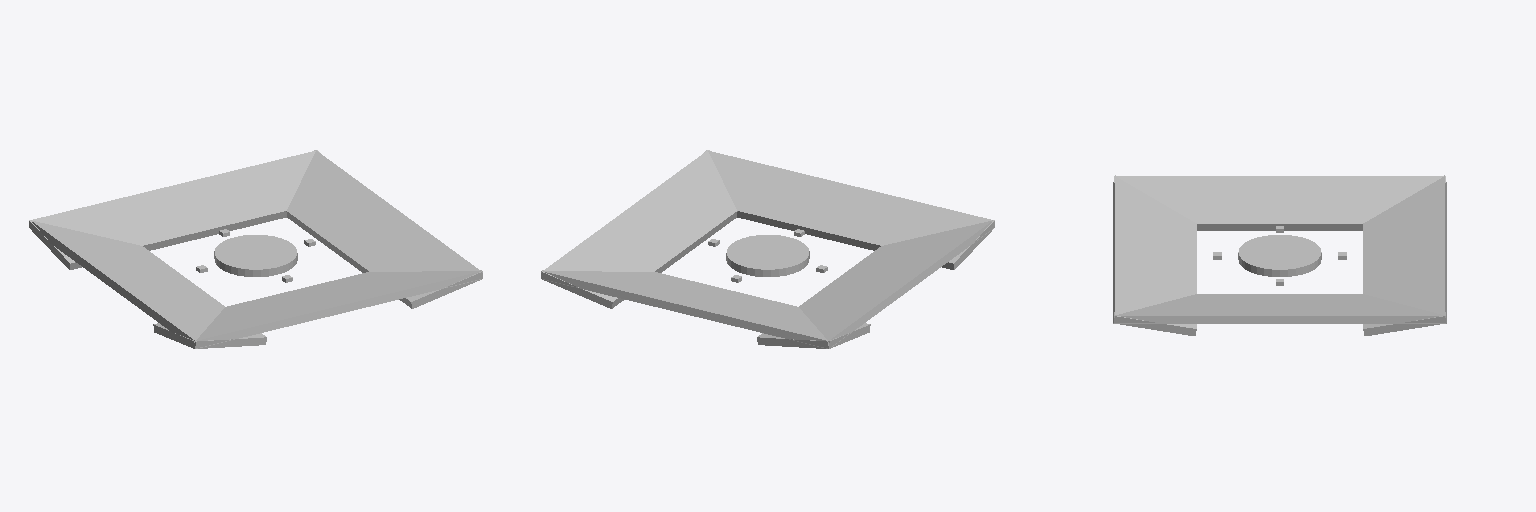
File: thefield.obj
The picture shows the model from 3 angles: view 1: azimuth 30°, elevation 25°; view 2: azimuth 150°, elevation 25°; view 3: azimuth 270°, elevation 25°; orthographic projection.
Parts seen in each view (by area): view 1: Cube.002, Cube, Cube.001, Cube.003, Cylinder; view 2: Cube.003, Cube, Cube.001, Cube.002, Cylinder; view 3: Cube.001, Cube.002, Cube.003, Cube, Cylinder.
Boxes of the visible parts, box(x1,y1,x2,y2) form: Cube.002: box(29, 150, 319, 269); Cube: box(286, 150, 482, 308); Cube.001: box(30, 220, 266, 348); Cube.003: box(153, 270, 482, 348); Cylinder: box(214, 235, 297, 276); Cube.003: box(704, 150, 994, 269); Cube: box(541, 150, 737, 308); Cube.001: box(757, 220, 993, 348); Cube.002: box(541, 270, 870, 348); Cylinder: box(726, 235, 809, 276); Cube.001: box(1114, 176, 1445, 230); Cube.002: box(1363, 175, 1446, 335); Cube.003: box(1113, 175, 1196, 335); Cube: box(1114, 294, 1445, 323); Cylinder: box(1238, 235, 1321, 276).
Size of the model in its own units: 80.04 by 5.44 by 80.04.